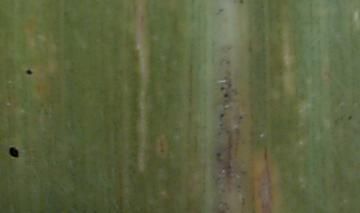tarspot: (8, 146, 20, 159), (25, 69, 33, 76), (215, 151, 222, 159), (347, 114, 353, 122), (220, 85, 226, 91), (224, 93, 229, 99), (219, 113, 225, 118), (238, 1, 244, 4)
